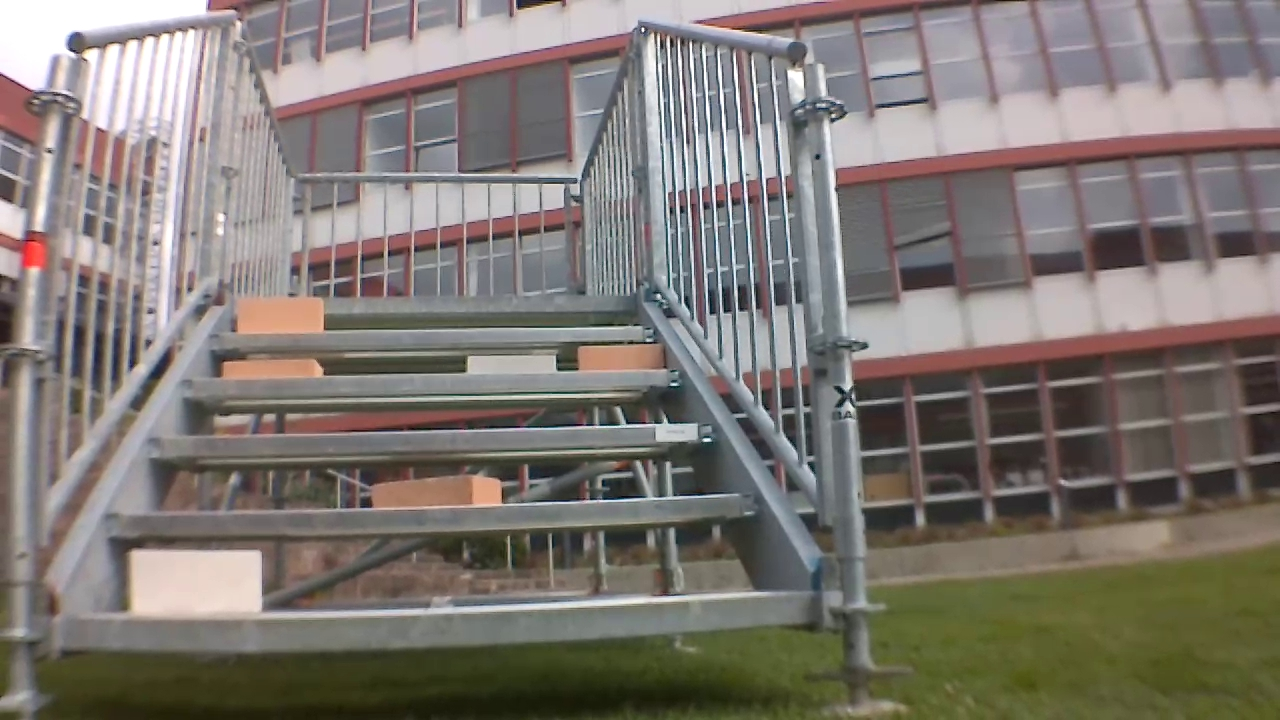brick: (130, 551, 261, 614), (373, 477, 501, 505), (237, 297, 323, 331), (580, 344, 663, 371), (223, 359, 323, 378), (466, 354, 556, 375)
edge: (63, 592, 816, 651), (107, 494, 755, 535), (150, 425, 713, 455), (183, 370, 684, 393), (208, 325, 659, 346), (236, 296, 638, 313)
stairs: (11, 9, 880, 711)
steps: (53, 291, 821, 662)
